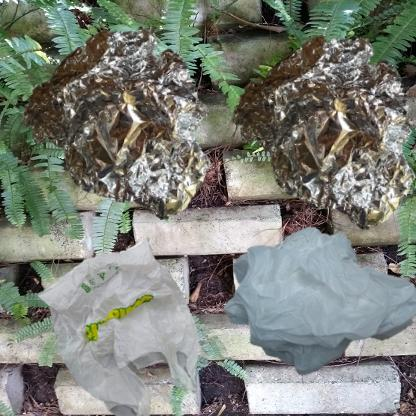aluminio: (10, 10, 233, 229), (213, 10, 416, 245)
bolsa: (10, 213, 240, 416), (213, 213, 416, 404)
